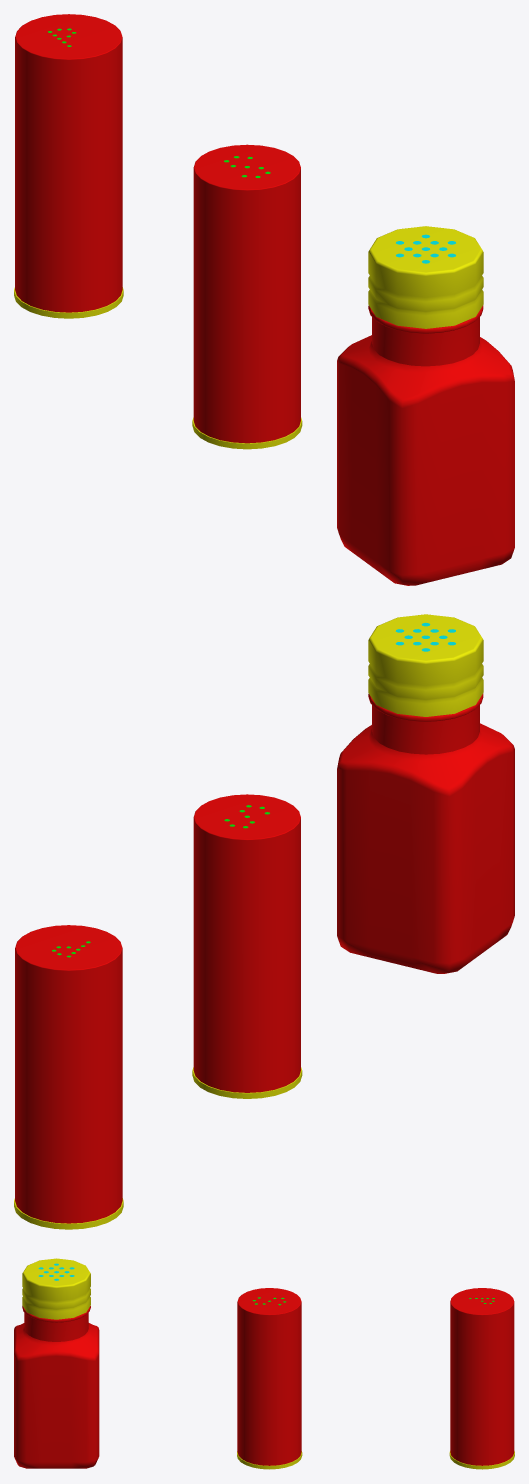
Rendered from thorkea_salt_pepper_shakers_grp.fbx.
3 views of the same model, one above another, from view 1: azimuth 30°, elevation 25°; view 2: azimuth 150°, elevation 25°; view 3: azimuth 270°, elevation 25° (orthographic). The views are drawn at different scales.
Visible parts, largest first — view 1: thorkea_salt_pepper_shaker_bnyd, thorkea_salt_pepper_shaker_plats_pepper, thorkea_salt_pepper_shaker_plats_salt; view 2: thorkea_salt_pepper_shaker_bnyd, thorkea_salt_pepper_shaker_plats_salt, thorkea_salt_pepper_shaker_plats_pepper; view 3: thorkea_salt_pepper_shaker_bnyd, thorkea_salt_pepper_shaker_plats_salt, thorkea_salt_pepper_shaker_plats_pepper.
Part boxes in pixels (box(x1,y1,x2,y2)): thorkea_salt_pepper_shaker_bnyd: box(337, 226, 514, 585); thorkea_salt_pepper_shaker_plats_pepper: box(14, 14, 123, 318); thorkea_salt_pepper_shaker_plats_salt: box(192, 144, 302, 449); thorkea_salt_pepper_shaker_bnyd: box(337, 614, 514, 973); thorkea_salt_pepper_shaker_plats_salt: box(192, 794, 302, 1098); thorkea_salt_pepper_shaker_plats_pepper: box(14, 925, 123, 1229); thorkea_salt_pepper_shaker_bnyd: box(14, 1258, 99, 1468); thorkea_salt_pepper_shaker_plats_salt: box(237, 1288, 302, 1469); thorkea_salt_pepper_shaker_plats_pepper: box(449, 1288, 514, 1469).
Bounding box in the file's own units: 4 × 9.51 × 23.53.
